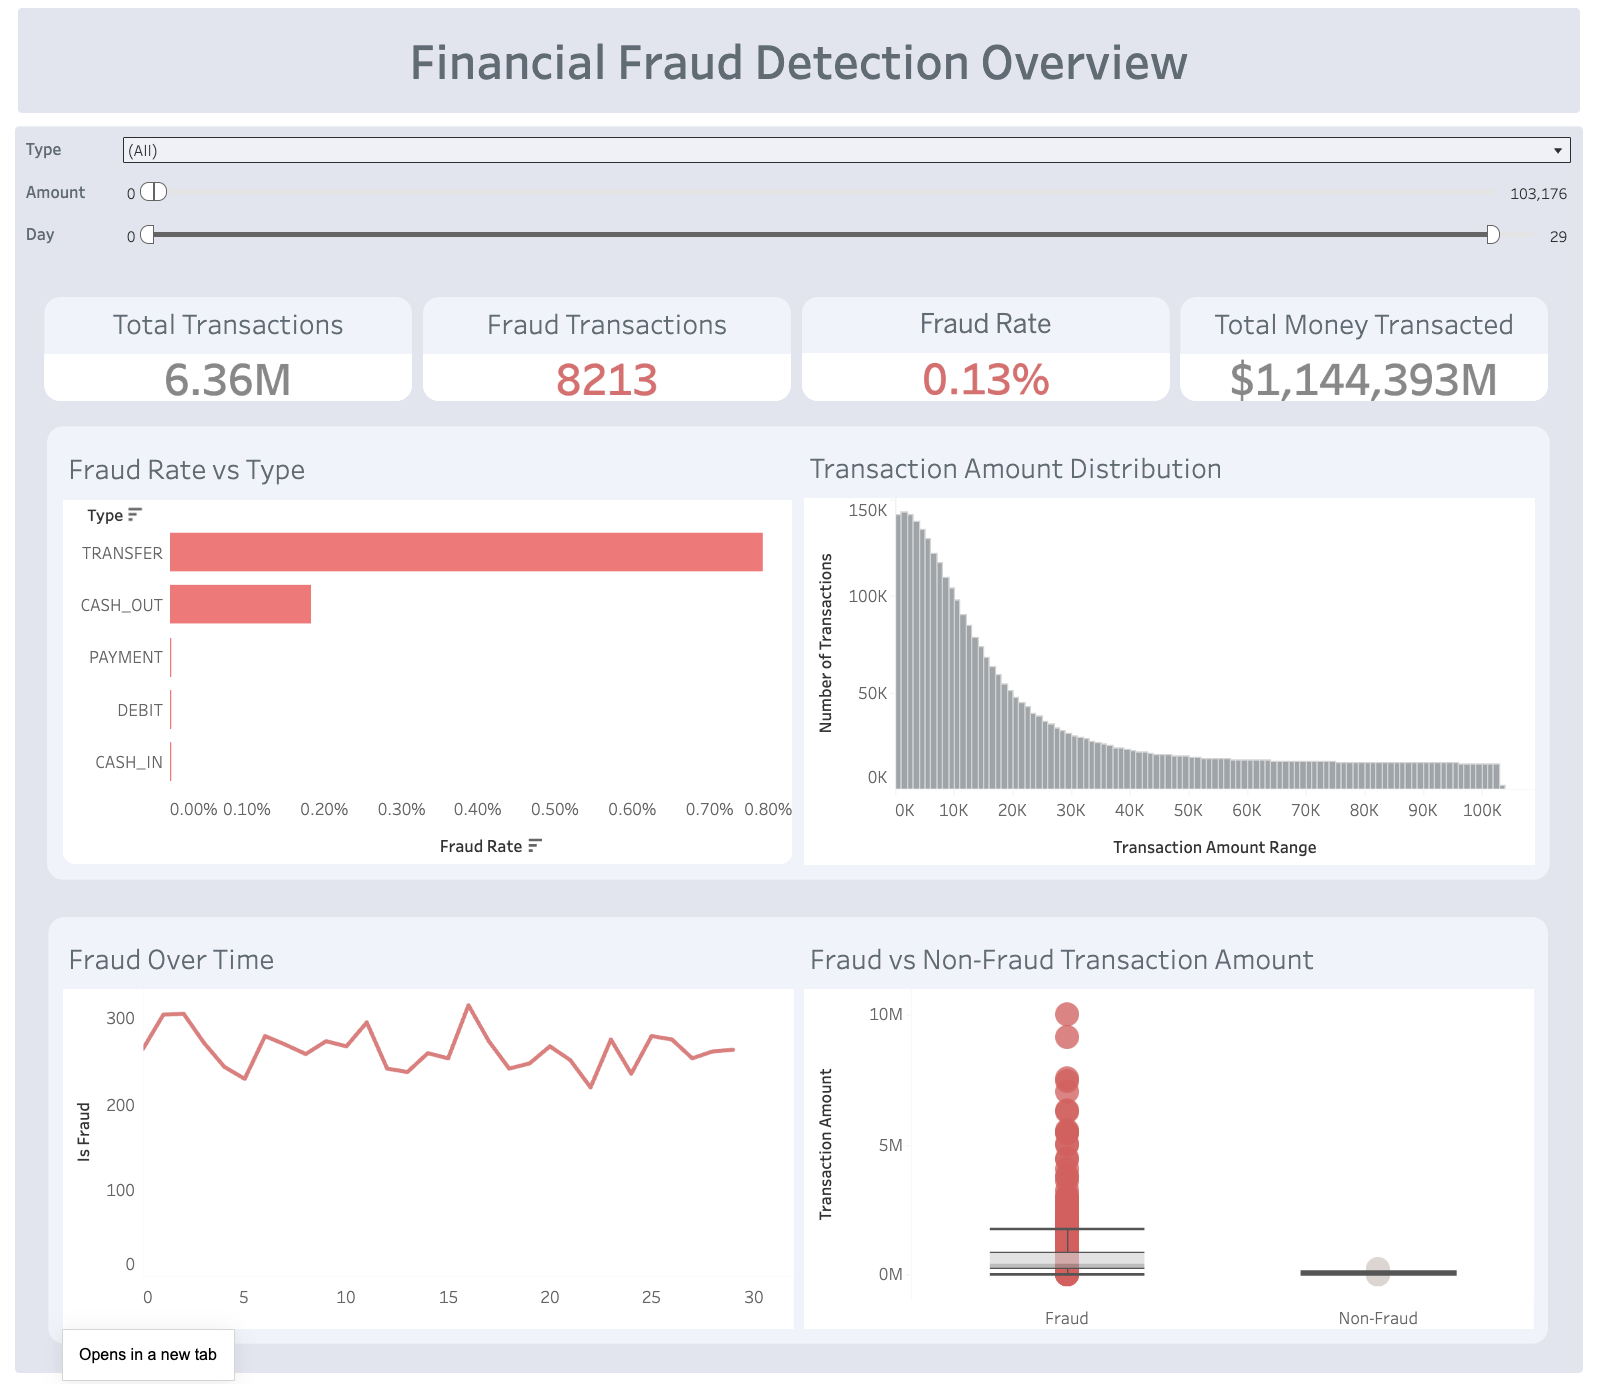

The page's visual inventory and layout, read from the dashboard file:
{"tool":"tableau","page":{"name":"Dashboard 1","canvas":[1200,1050],"ordinal":0},"visuals":[{"type":"text","box":[8,8,1184,90.9]},{"type":"filter","title":"Fraud Rate vs Type","param":"[federated.0gms4dl08w47z71fd41yp0ldlx81].[none:type:nk]","box":[16,106.9,1168,32]},{"type":"legend","title":"Fraud Rate vs Type","param":"[federated.0gms4dl08w47z71fd41yp0ldlx81].[usr:Calculation_1221878877597696:qk]","box":[16,111.6,1168,85.3]},{"type":"filter","title":"Transaction Amount Distribution","param":"[federated.0gms4dl08w47z71fd41yp0ldlx81].[none:amount:qk]","box":[16,138.9,1168,32]},{"type":"filter","title":"Fraud Over Time","param":"[federated.0gms4dl08w47z71fd41yp0ldlx81].[none:Calculation_1221878934020103:qk]","box":[16,171,1168,38]},{"type":"worksheet","title":"Total Transactions","mark":"Automatic","box":[30,227,284,86]},{"type":"worksheet","title":"Fraud Transactions","mark":"Automatic","box":[314,227,284,86]},{"type":"worksheet","title":"Fraud Rate","mark":"Automatic","box":[598,227,284,86]},{"type":"worksheet","title":"Total Money Transacted","mark":"Automatic","box":[882,227,284,86]},{"type":"worksheet","title":"Fraud Rate vs Type","mark":"Automatic","rows":["type"],"cols":["Calculation_1221878877597696"],"box":[43,335,557,326]},{"type":"worksheet","title":"Transaction Amount Distribution","mark":"Automatic","rows":["Calculation_1221878878089220"],"cols":["Amount (bin)"],"box":[600,335,556,326]},{"type":"worksheet","title":"Fraud Over Time","mark":"Line","rows":["isFraud"],"cols":["Calculation_1221878934020103"],"box":[44,703,556,306]},{"type":"worksheet","title":"Fraud vs Normal Amount (Risk Insight)","mark":"Circle","rows":["amount"],"cols":["Calculation_1221878959841288"],"box":[600,703,555,306]}]}

Visuals, with their boxes in screenshot pixels (x1, y1, x2, y2), scaled from the page's 1200x1050 canvas onto the 1602x1384 screenshot:
text: (left=11, top=11, right=1591, bottom=130)
"Fraud Rate vs Type" filter: (left=21, top=141, right=1581, bottom=183)
"Fraud Rate vs Type" legend: (left=21, top=147, right=1581, bottom=260)
"Transaction Amount Distribution" filter: (left=21, top=183, right=1581, bottom=225)
"Fraud Over Time" filter: (left=21, top=225, right=1581, bottom=275)
"Total Transactions" worksheet: (left=40, top=299, right=419, bottom=413)
"Fraud Transactions" worksheet: (left=419, top=299, right=798, bottom=413)
"Fraud Rate" worksheet: (left=798, top=299, right=1177, bottom=413)
"Total Money Transacted" worksheet: (left=1177, top=299, right=1557, bottom=413)
"Fraud Rate vs Type" worksheet: (left=57, top=442, right=801, bottom=871)
"Transaction Amount Distribution" worksheet: (left=801, top=442, right=1543, bottom=871)
"Fraud Over Time" worksheet (Line marks): (left=59, top=927, right=801, bottom=1330)
"Fraud vs Normal Amount (Risk Insight)" worksheet (Circle marks): (left=801, top=927, right=1542, bottom=1330)
